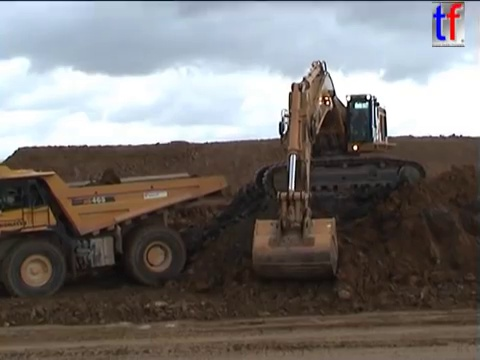excavator: (246, 56, 429, 282)
truck: (1, 163, 231, 301)
